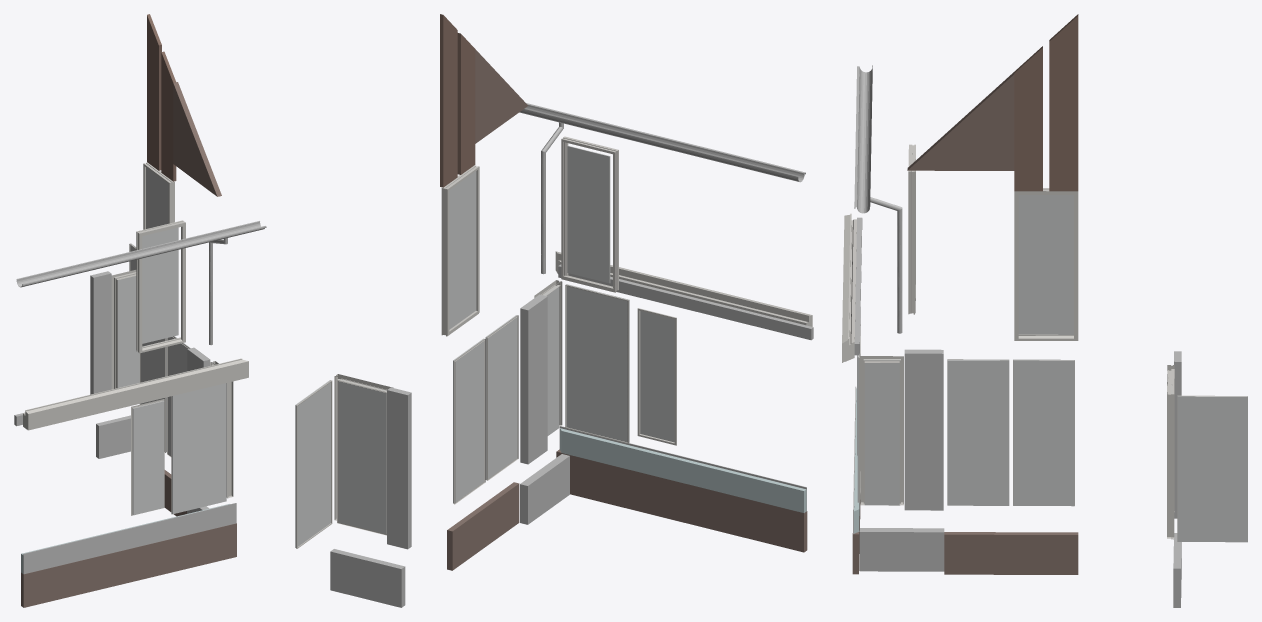
The picture shows the model from 3 angles, left to right: view 1: azimuth 30°, elevation 25°; view 2: azimuth 150°, elevation 25°; view 3: azimuth 270°, elevation 25°; orthographic projection. The views are drawn at different scales.
Size of the model in its own units: 6.08 by 9.84 by 6.43.
